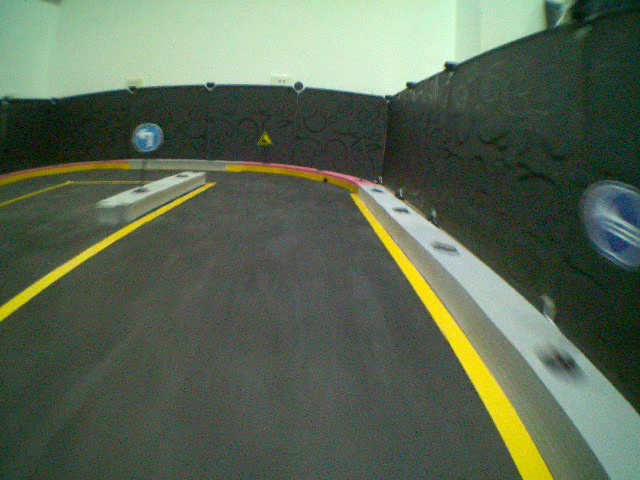fast: (256, 131, 272, 147)
turn: (129, 121, 164, 155)
